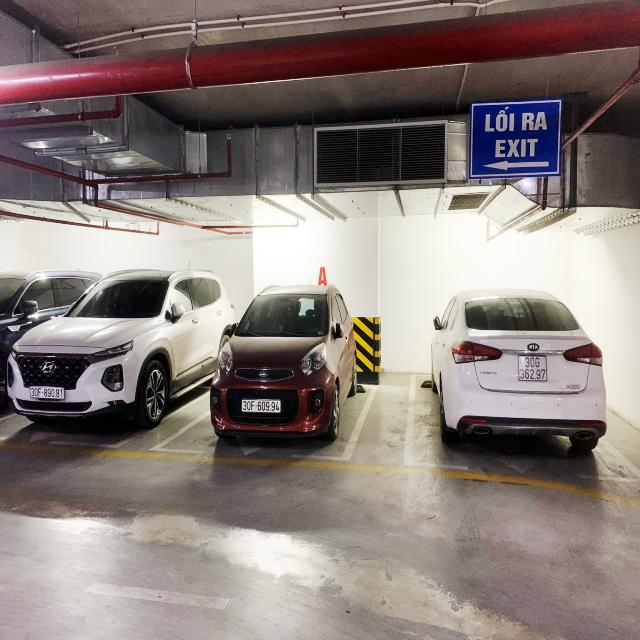license_plate: (519, 356, 548, 383), (243, 399, 282, 413), (31, 386, 65, 401)
